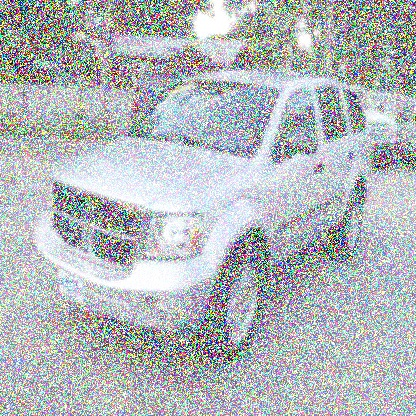Vehicle: (34, 71, 374, 363)
